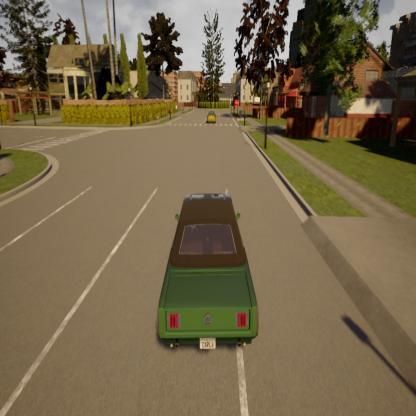Cars: (154, 188, 267, 362)
